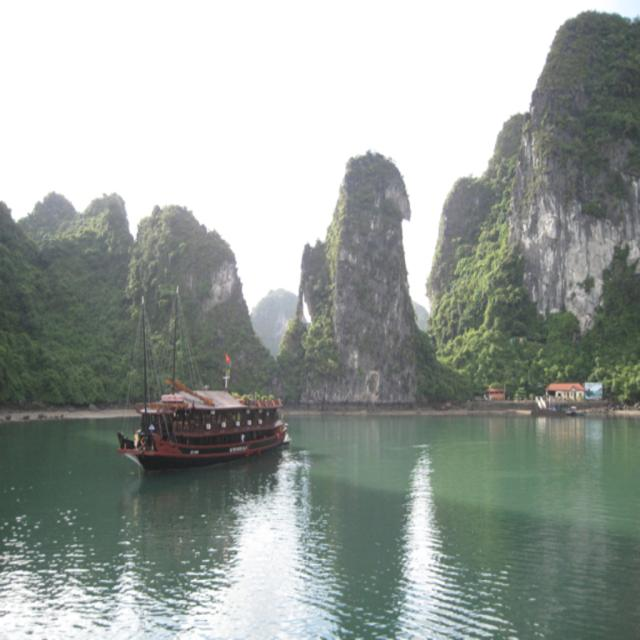Boat: (108, 339, 291, 533)
